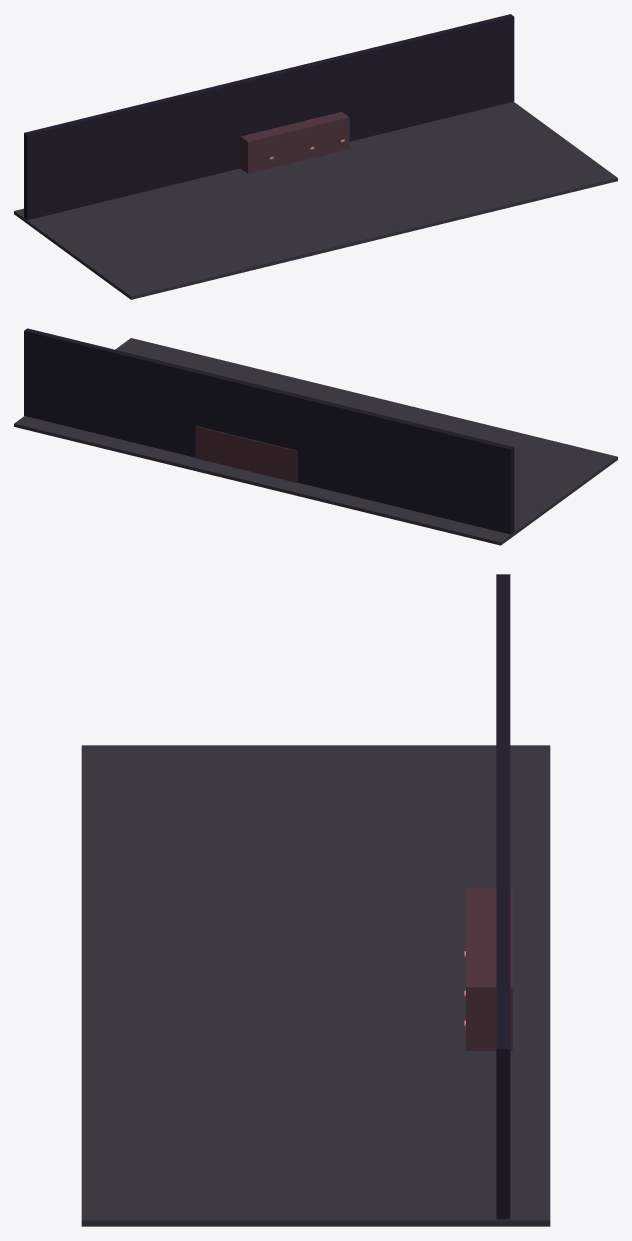
The model's file is room.glb.
3 views of the same model, one above another, from view 1: azimuth 30°, elevation 25°; view 2: azimuth 150°, elevation 25°; view 3: azimuth 270°, elevation 25° (orthographic). The views are drawn at different scales.
Parts seen in each view (by area): view 1: RepresentativeRoomGeometry; view 2: RepresentativeRoomGeometry; view 3: RepresentativeRoomGeometry.
Boxes of the visible parts, box(x1,y1,x2,y2) form: RepresentativeRoomGeometry: box(14, 14, 617, 299); RepresentativeRoomGeometry: box(14, 328, 617, 545); RepresentativeRoomGeometry: box(81, 574, 550, 1226).
Size of the model in its own units: 24 by 4.18 by 10.
